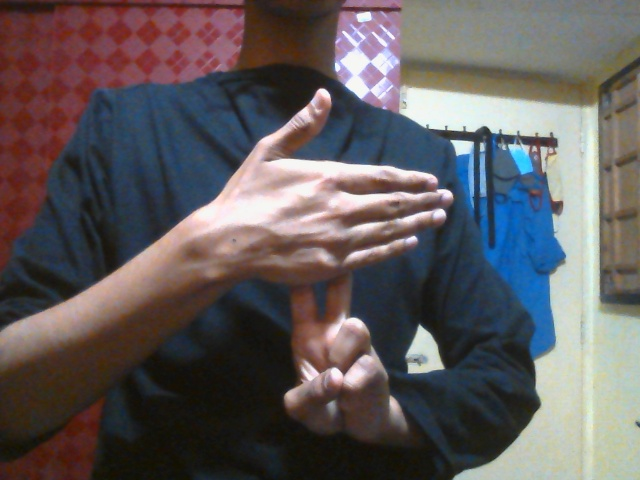N: (219, 87, 454, 443)
